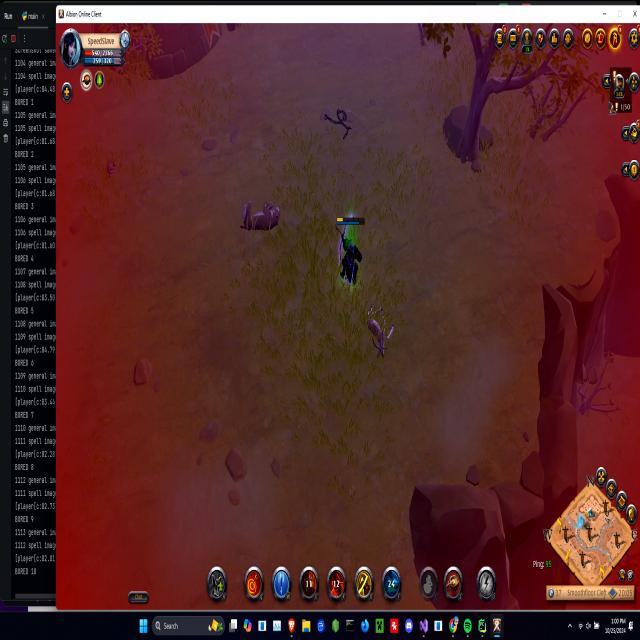mob: (363, 300, 398, 362), (236, 194, 286, 236)
red: (334, 210, 365, 293)
